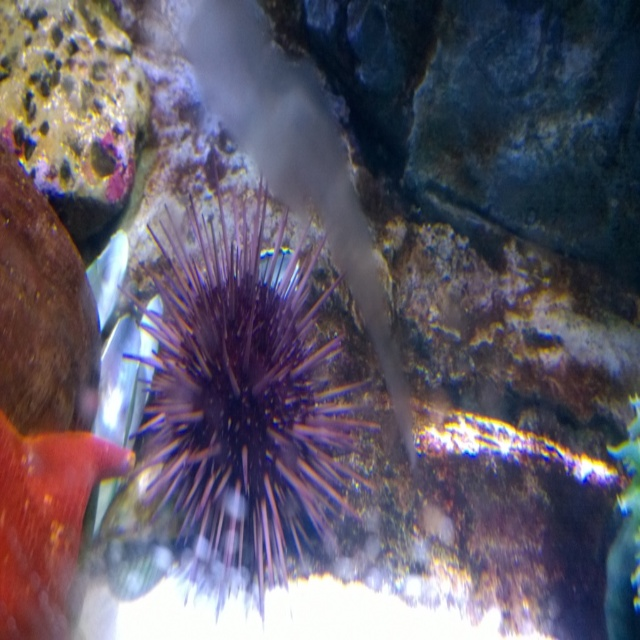Fish: (116, 154, 381, 620), (0, 408, 135, 640)
